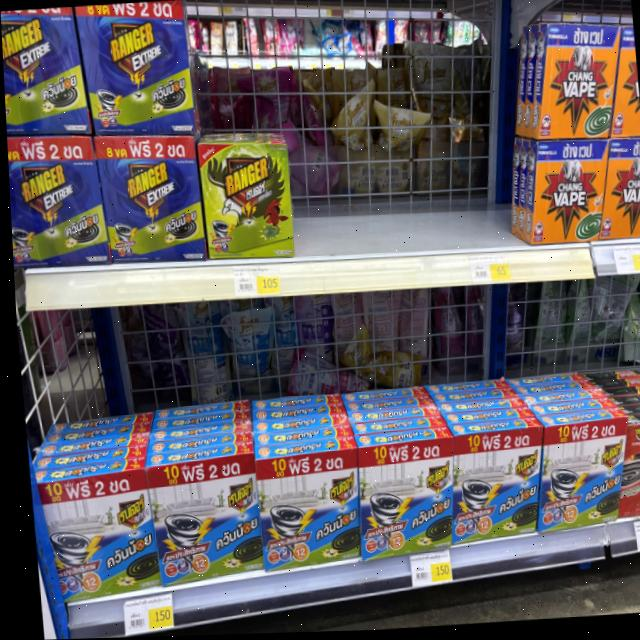empty_shelf: (17, 286, 621, 478), (283, 0, 528, 256), (183, 0, 283, 141)
